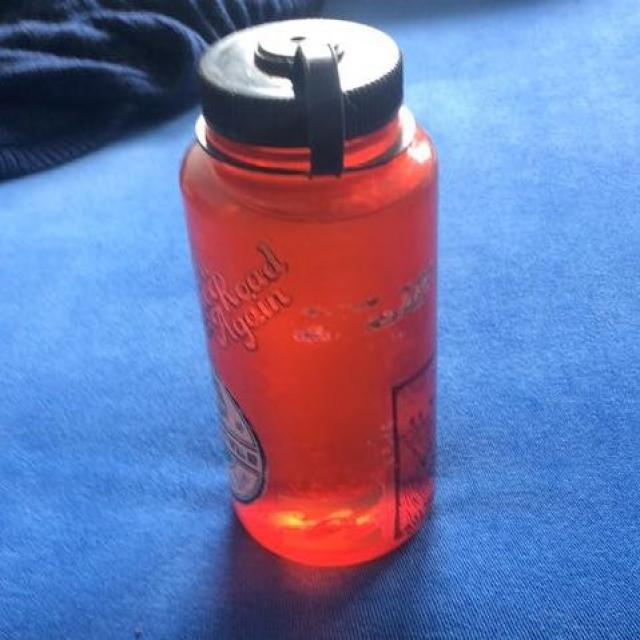water: (182, 59, 442, 551)
